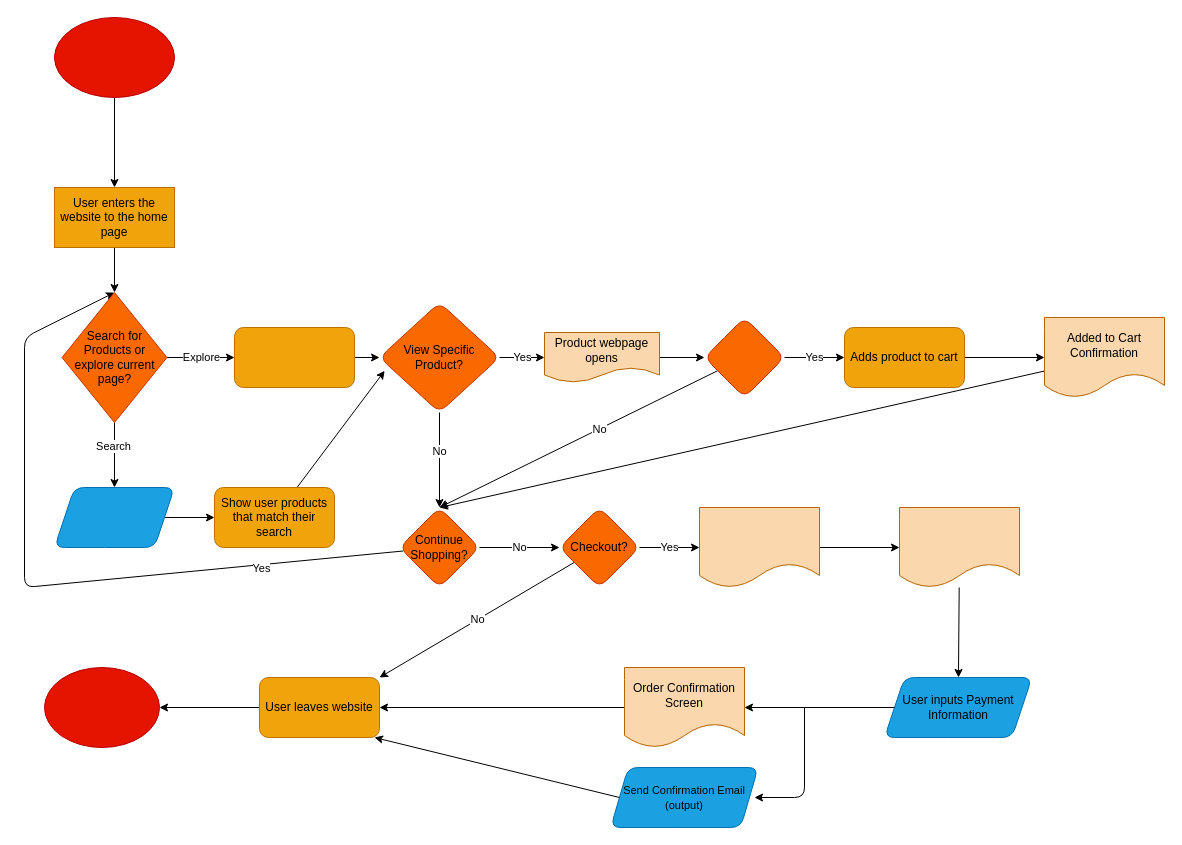
This 1182x845 diagram has some shape labels left out. The centre of each missing label's shape, as x and y in pixels:
"Add to Cart?" goes at point 744,357.
"End" goes at point 102,707.
"Show user products on current page" goes at point 294,357.
"Start" goes at point 114,57.
"User inputs their search to website" goes at point 114,517.
"View Cart Screen" goes at point 759,547.
"View Payment Screen" goes at point 959,547.
